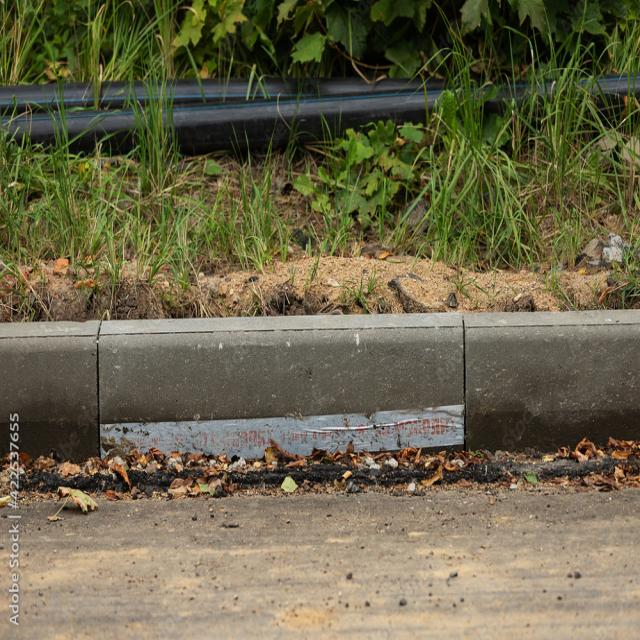Pothole: (40, 145, 640, 557)
